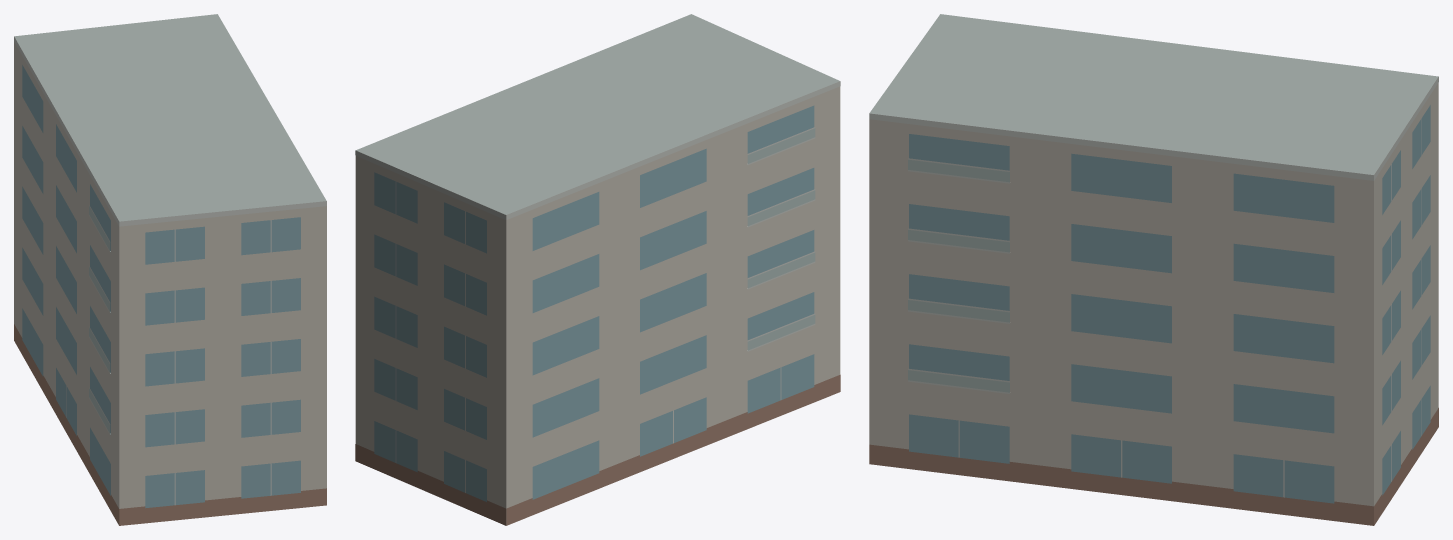
Rendered from survey-upis-32874167.glb.
3 views of the same model, side by side, from view 1: azimuth 30°, elevation 25°; view 2: azimuth 150°, elevation 25°; view 3: azimuth 270°, elevation 25° (orthographic). The views are drawn at different scales.
Visible parts, largest first — view 1: survey-upis-32874167.tmp; view 2: survey-upis-32874167.tmp; view 3: survey-upis-32874167.tmp.
Boxes of the visible parts, x1,y1,x2,y2 form: survey-upis-32874167.tmp: (14, 14, 326, 525); survey-upis-32874167.tmp: (355, 14, 840, 525); survey-upis-32874167.tmp: (869, 14, 1438, 525).
Bounding box in the file's own units: 14.6 × 14.8 × 21.79.
